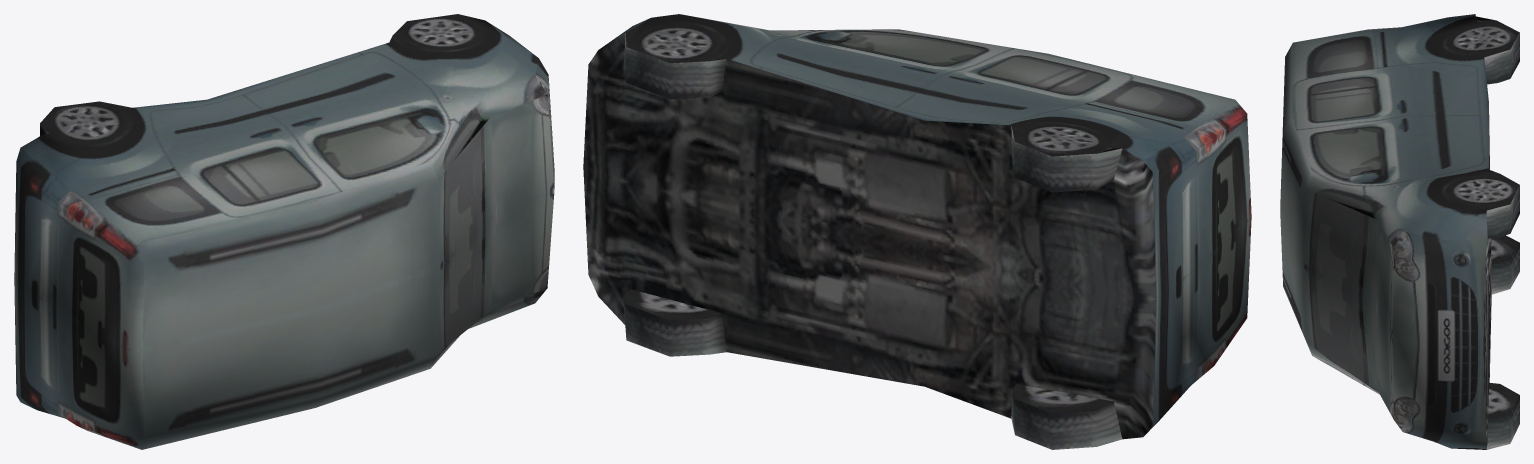
Rendered from ny_harbor_veh_civ_car_a_10_LOD0.obj.
The picture shows the model from 3 angles, left to right: view 1: azimuth 30°, elevation 25°; view 2: azimuth 150°, elevation 25°; view 3: azimuth 270°, elevation 25°; orthographic projection. The views are drawn at different scales.
Parts seen in each view (by area): view 1: mtl_ac_prs_vehicle_sheet_a; view 2: mtl_ac_prs_vehicle_sheet_a; view 3: mtl_ac_prs_vehicle_sheet_a.
Boxes of the visible parts, bbox=[...] form: mtl_ac_prs_vehicle_sheet_a: bbox=[14, 14, 554, 449]; mtl_ac_prs_vehicle_sheet_a: bbox=[583, 14, 1251, 449]; mtl_ac_prs_vehicle_sheet_a: bbox=[1280, 14, 1519, 449].
Bounding box in the file's own units: 420 × 208 × 189.
